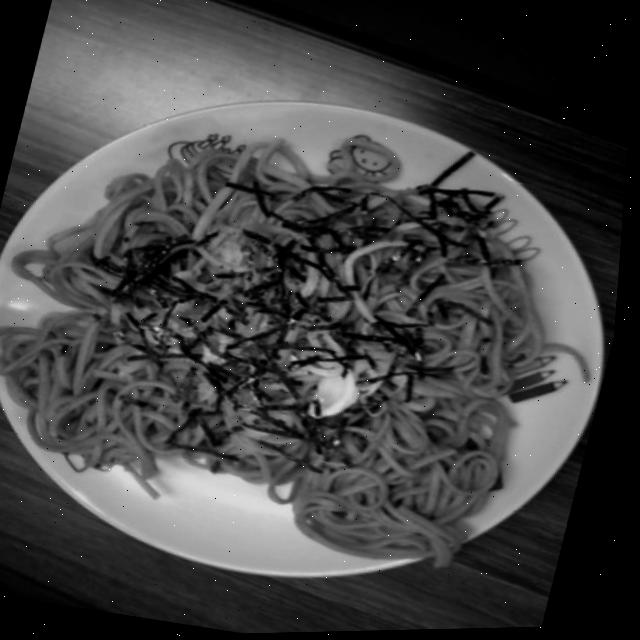面条主食: (0, 46, 637, 639)
